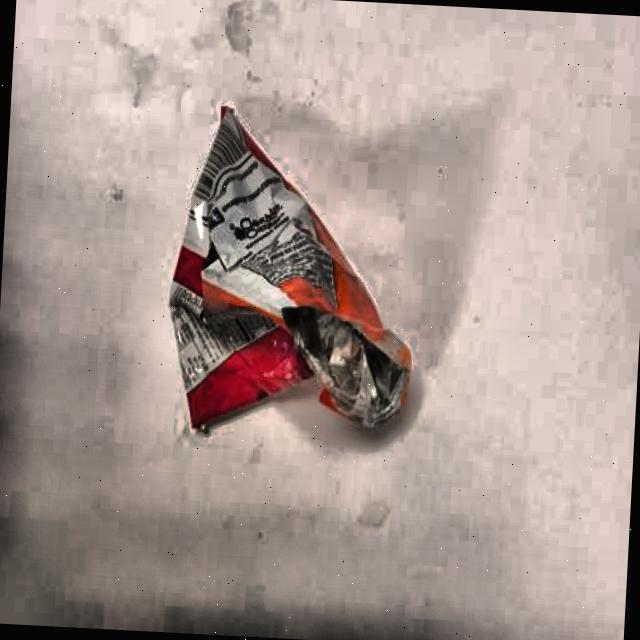trash: (162, 101, 414, 420)
